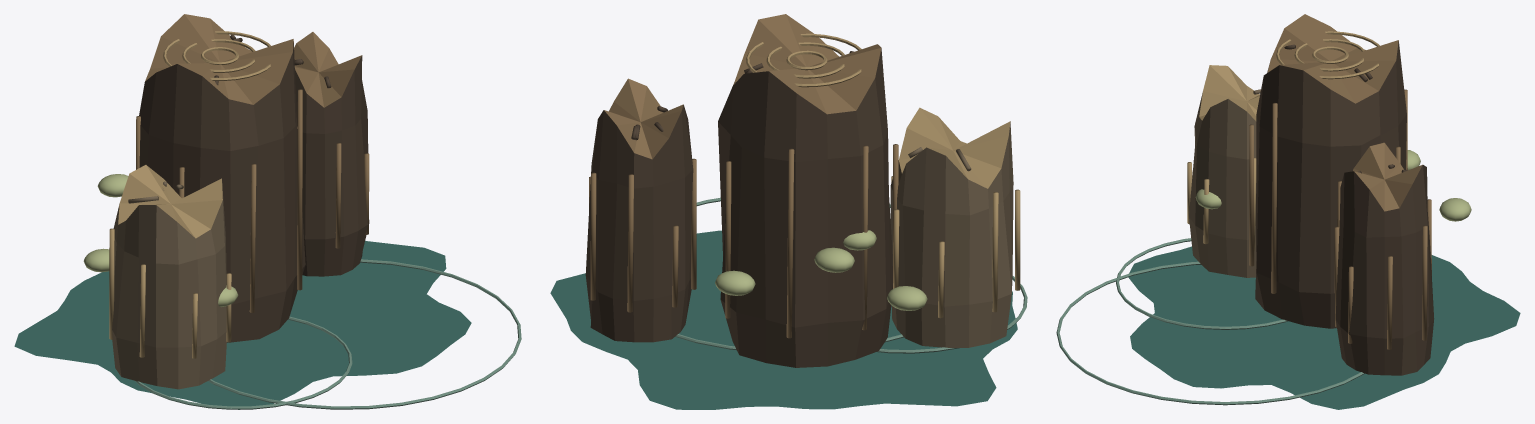
Rendered from tocos_alagados.glb.
The picture shows the model from 3 angles, left to right: view 1: azimuth 30°, elevation 25°; view 2: azimuth 150°, elevation 25°; view 3: azimuth 270°, elevation 25°; orthographic projection. The views are drawn at different scales.
Visible parts, largest first — view 1: Pântano | Toco alagado | casca preta, Poça parada em torno dos tocos, Pântano | Toco alagado | casca cinzenta, Pântano | Madeira aberta | marrom escuro, Pântano | Madeira aberta | anéis, Pântano | Reflexo turvo, Pântano | Fungo pequeno | verde pálido; view 2: Pântano | Toco alagado | casca preta, Poça parada em torno dos tocos, Pântano | Toco alagado | casca cinzenta, Pântano | Madeira aberta | marrom escuro, Pântano | Madeira aberta | anéis, Pântano | Fungo pequeno | verde pálido, Pântano | Reflexo turvo; view 3: Pântano | Toco alagado | casca preta, Poça parada em torno dos tocos, Pântano | Madeira aberta | marrom escuro, Pântano | Toco alagado | casca cinzenta, Pântano | Madeira aberta | anéis, Pântano | Reflexo turvo, Pântano | Fungo pequeno | verde pálido.
Part boxes in pixels (x1,y1,x2,y2): Pântano | Toco alagado | casca preta: (139, 34, 369, 342); Poça parada em torno dos tocos: (14, 240, 471, 409); Pântano | Toco alagado | casca cinzenta: (112, 181, 226, 389); Pântano | Madeira aberta | marrom escuro: (136, 14, 369, 312); Pântano | Madeira aberta | anéis: (109, 31, 270, 358); Pântano | Reflexo turvo: (134, 259, 521, 409); Pântano | Fungo pequeno | verde pálido: (83, 174, 238, 306); Pântano | Toco alagado | casca preta: (585, 48, 892, 367); Poça parada em torno dos tocos: (550, 230, 1017, 409); Pântano | Toco alagado | casca cinzenta: (890, 121, 1013, 347); Pântano | Madeira aberta | marrom escuro: (589, 14, 898, 338); Pântano | Madeira aberta | anéis: (746, 33, 1020, 318); Pântano | Fungo pequeno | verde pálido: (715, 230, 927, 310); Pântano | Reflexo turvo: (675, 197, 1027, 353); Pântano | Toco alagado | casca preta: (1255, 41, 1434, 375); Poça parada em torno dos tocos: (1128, 246, 1520, 409); Pântano | Madeira aberta | marrom escuro: (1249, 14, 1431, 349); Pântano | Toco alagado | casca cinzenta: (1189, 89, 1260, 277); Pântano | Madeira aberta | anéis: (1187, 31, 1379, 250); Pântano | Reflexo turvo: (1056, 238, 1364, 405); Pântano | Fungo pequeno | verde pálido: (1195, 150, 1471, 221).
Bounding box in the file's own units: 0.8531 × 0.5375 × 0.8599.
